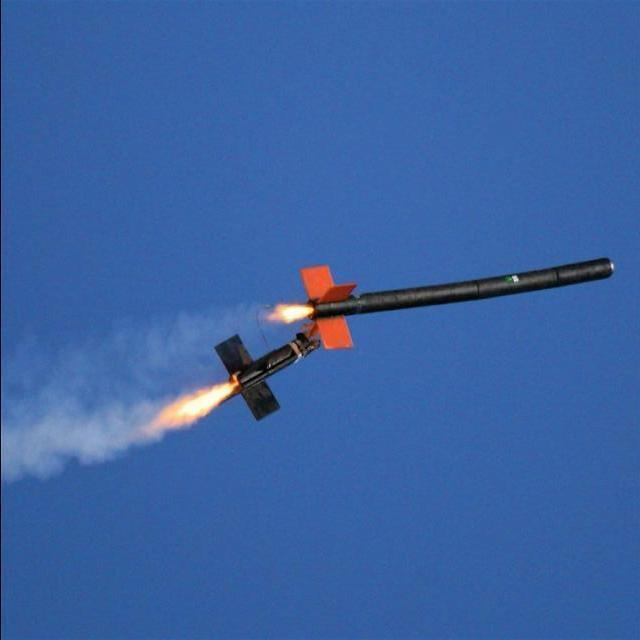missile: (282, 253, 622, 357), (205, 328, 338, 446)
